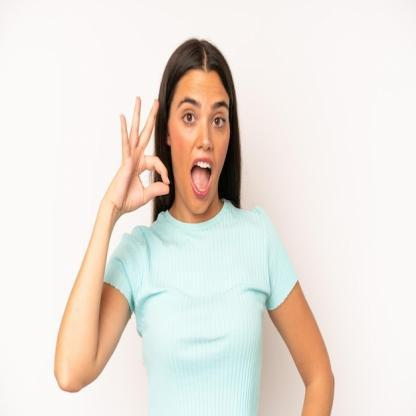ok: (113, 91, 174, 215)
